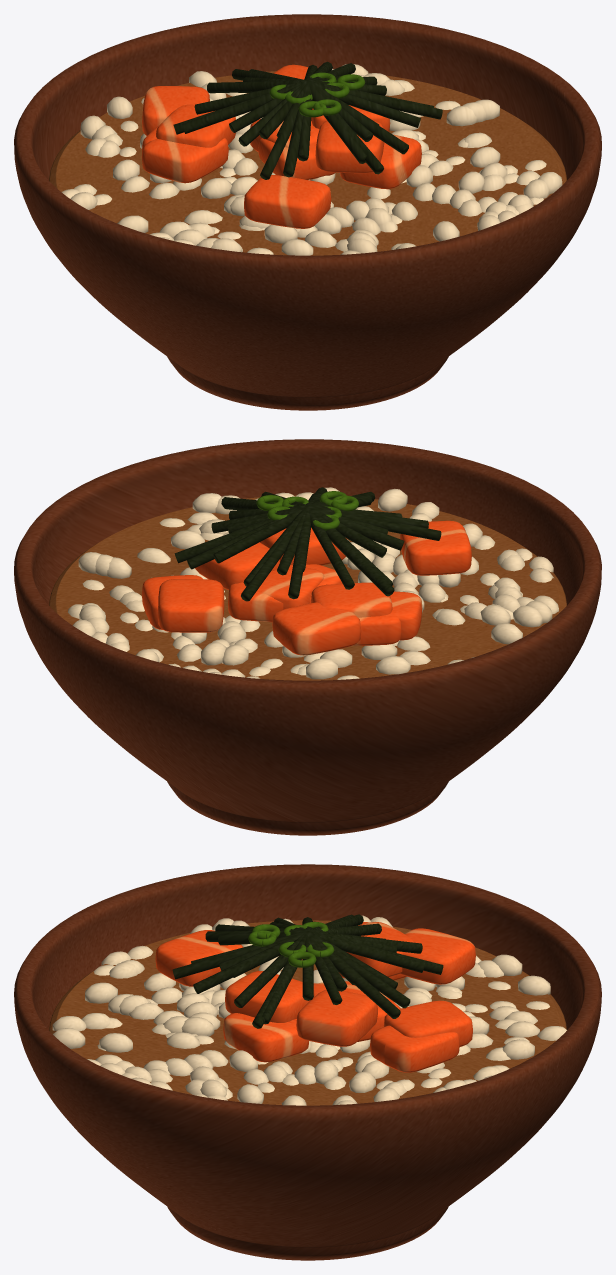
The model's file is 11-salmon-ochazuke.glb.
The picture shows the model from 3 angles, top to bottom: view 1: azimuth 30°, elevation 25°; view 2: azimuth 150°, elevation 25°; view 3: azimuth 270°, elevation 25°; orthographic projection.
Visible parts, largest first — view 1: Warm earthenware, Warm ivory rice, Amber dashi, Salmon coral, Nori seaweed, Fresh leaf; view 2: Warm earthenware, Warm ivory rice, Salmon coral, Amber dashi, Nori seaweed, Fresh leaf; view 3: Warm earthenware, Warm ivory rice, Salmon coral, Amber dashi, Nori seaweed, Fresh leaf.
Part boxes in pixels (<box>): Warm earthenware: <box>14,14,601,410</box>; Warm ivory rice: <box>61,64,562,255</box>; Amber dashi: <box>49,71,566,255</box>; Salmon coral: <box>141,64,421,228</box>; Nori seaweed: <box>173,61,442,179</box>; Fresh leaf: <box>269,72,365,117</box>; Warm earthenware: <box>14,439,601,835</box>; Warm ivory rice: <box>68,487,558,679</box>; Salmon coral: <box>142,520,471,655</box>; Amber dashi: <box>49,495,566,680</box>; Nori seaweed: <box>174,487,441,601</box>; Fresh leaf: <box>256,491,358,530</box>; Warm earthenware: <box>14,864,601,1260</box>; Warm ivory rice: <box>52,915,566,1105</box>; Salmon coral: <box>155,922,475,1072</box>; Amber dashi: <box>49,920,566,1105</box>; Nori seaweed: <box>172,914,443,1028</box>; Fresh leaf: <box>248,921,334,967</box>.
Bounding box in the file's own units: 0.037 × 0.0189 × 0.037.
6 materials, 6 textured.
